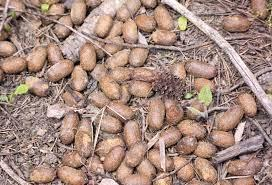Elk: (68, 48, 217, 174)
